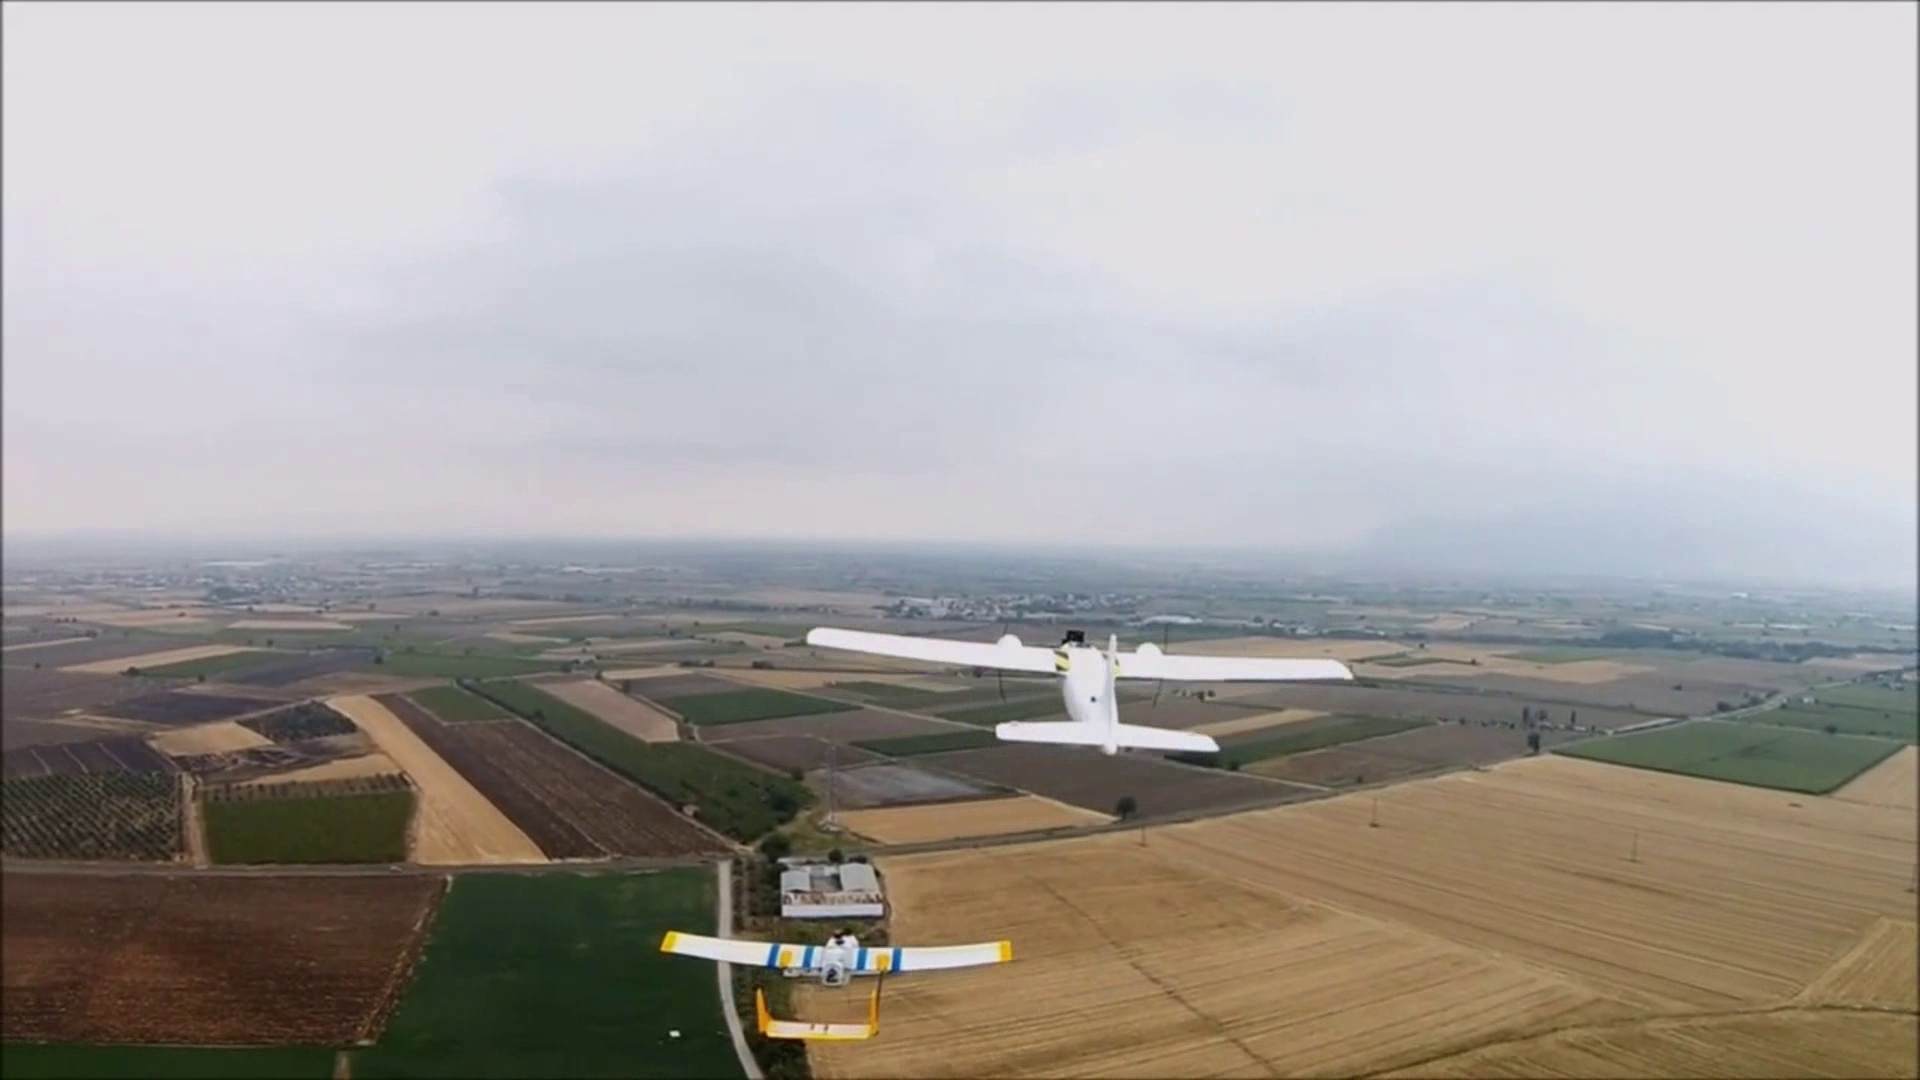airplane: (798, 616, 1395, 764)
